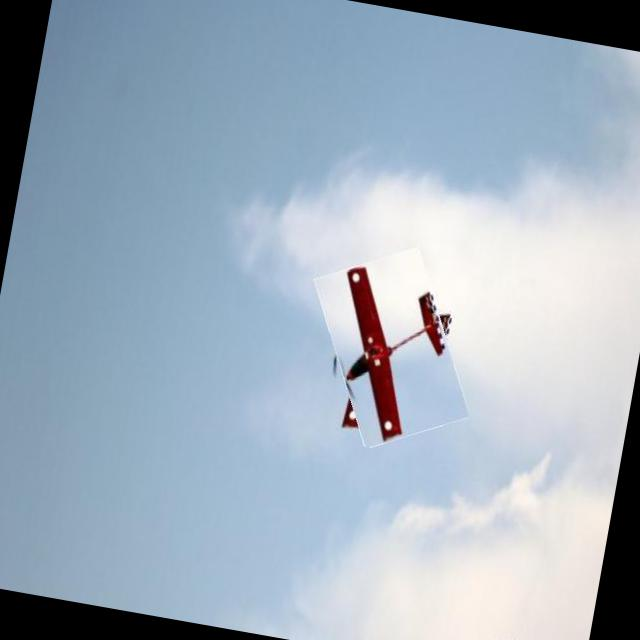UAV: (256, 216, 492, 482)
